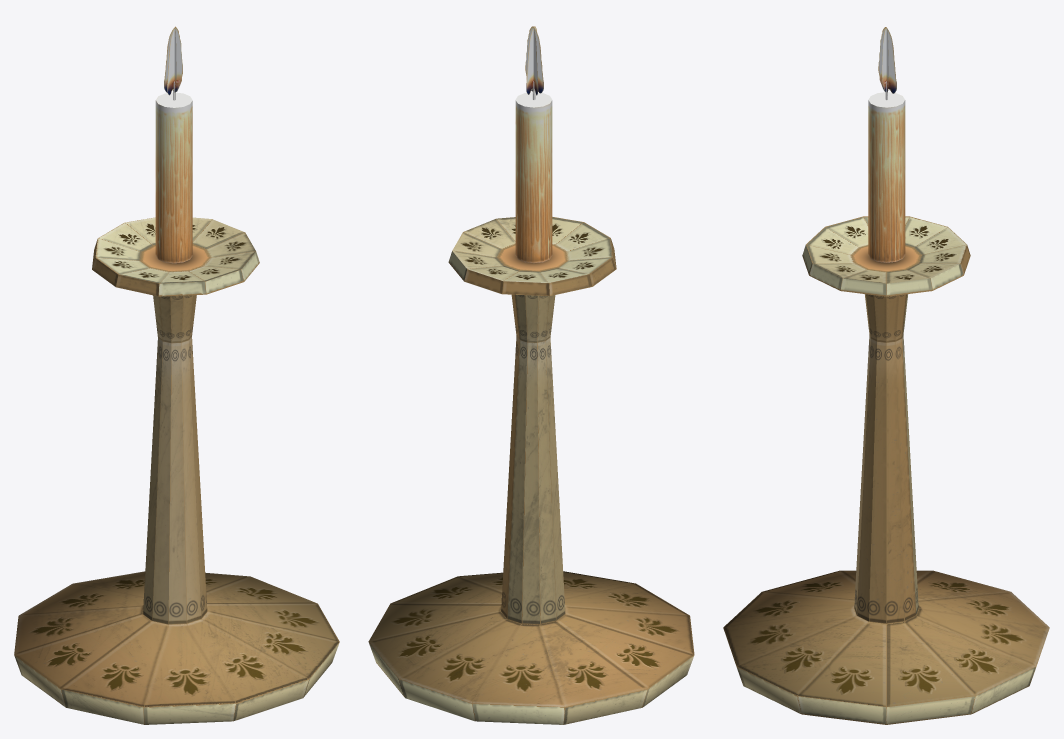
The model's file is light light.fbx.
The picture shows the model from 3 angles, left to right: view 1: azimuth 30°, elevation 25°; view 2: azimuth 150°, elevation 25°; view 3: azimuth 270°, elevation 25°; orthographic projection.
Visible parts, largest first — view 1: Cylinder003, Plane002; view 2: Cylinder003; view 3: Cylinder003, Plane004.
Boxes of the visible parts, x1,y1,x2,y2 form: Cylinder003: [14, 81, 339, 724]; Plane002: [164, 27, 182, 92]; Cylinder003: [368, 81, 694, 724]; Cylinder003: [723, 81, 1049, 724]; Plane004: [878, 27, 896, 93].
Size of the model in its own units: 44.05 by 95.62 by 44.51.
2 materials, 2 textured.
